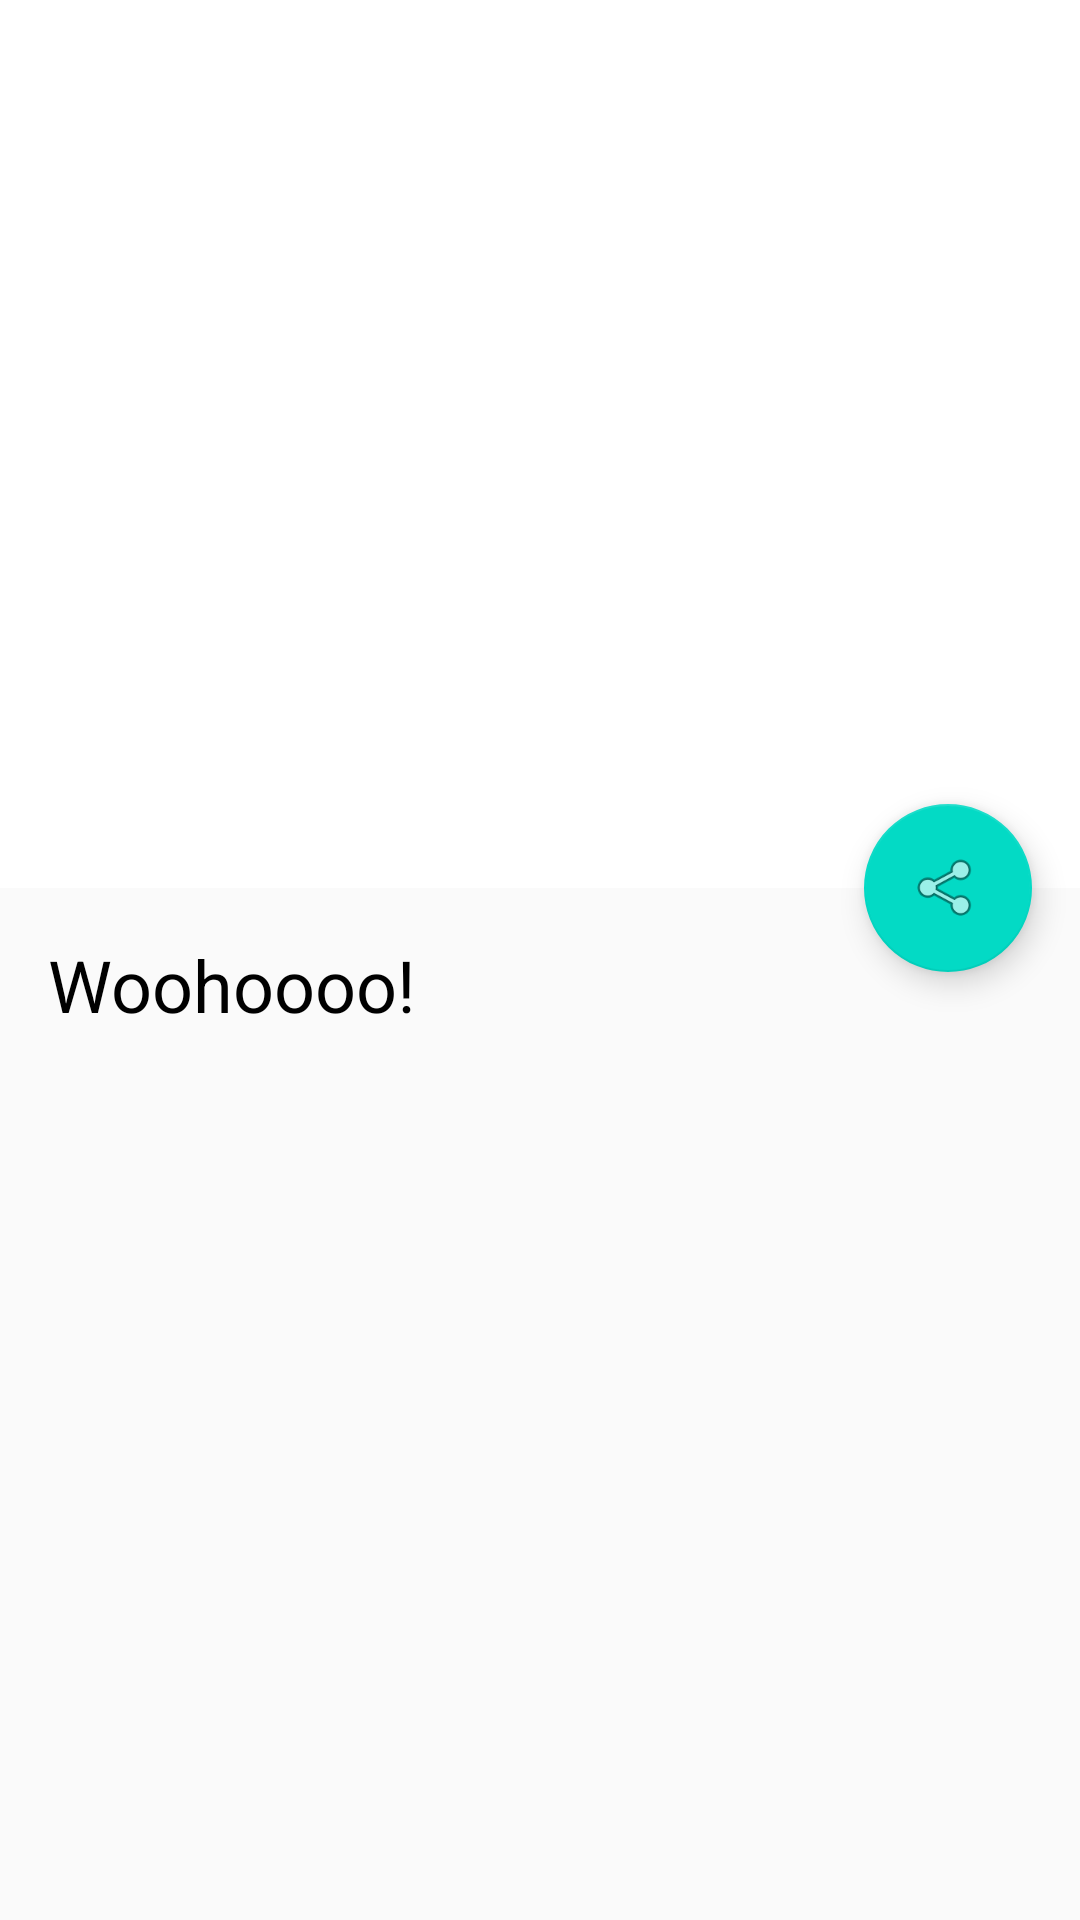

Icon click points for this 1080 × 1920 phone screenshot, format (x=x, y=y):
share: (x=948, y=888)
